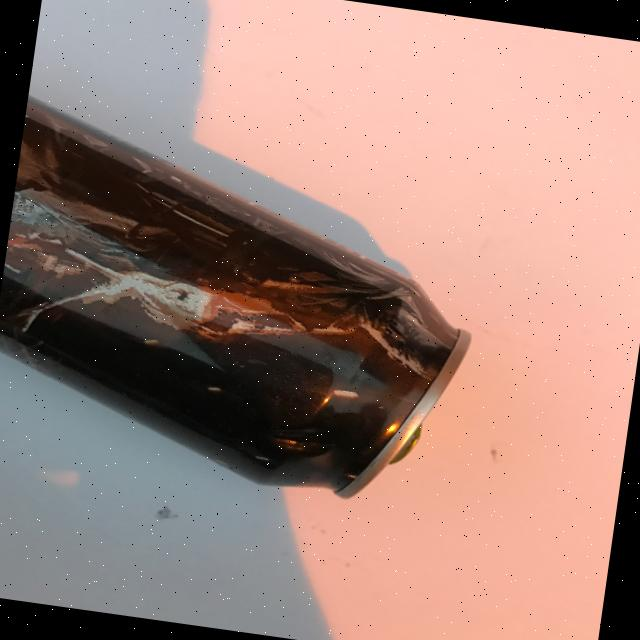metal: (0, 95, 496, 513)
